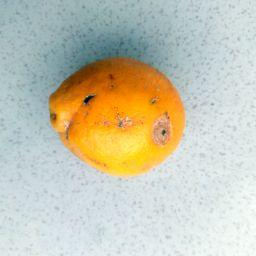Unripe: (51, 59, 188, 179)
